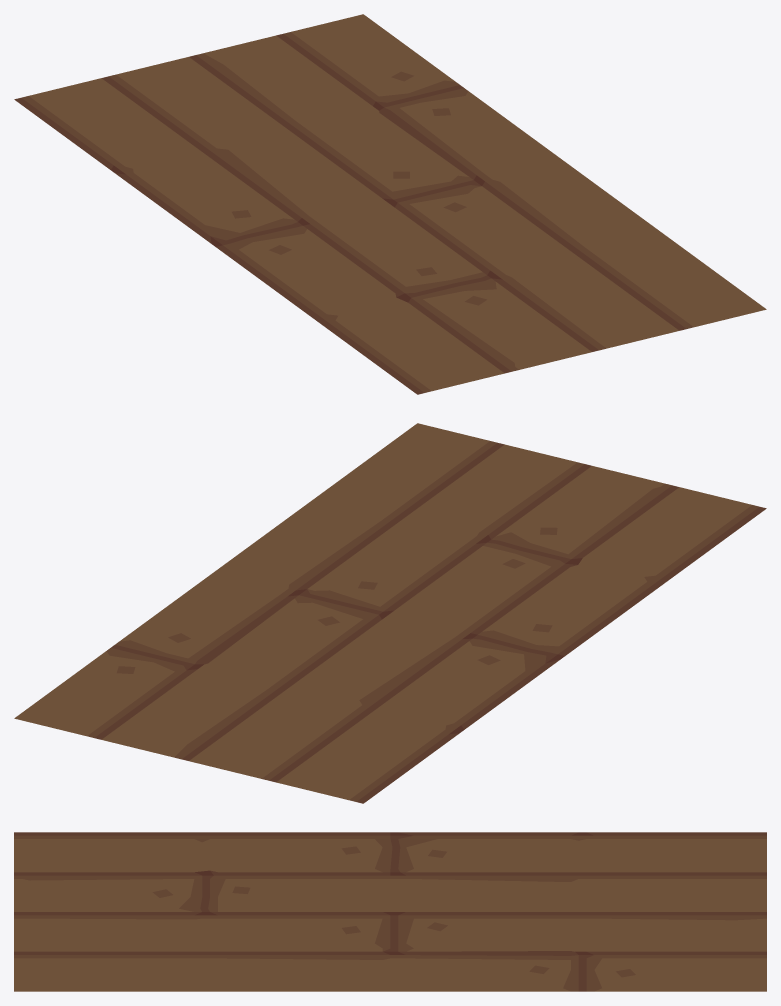
The model's file is floor1.fbx.
3 renders of one model, top to bottom at view 1: azimuth 30°, elevation 25°; view 2: azimuth 150°, elevation 25°; view 3: azimuth 270°, elevation 25°, orthographic. The views are drawn at different scales.
Visible parts, largest first — view 1: planks; view 2: planks; view 3: planks.
Part boxes in pixels (x1,y1,x2,y2): planks: (14, 14, 766, 394); planks: (14, 423, 766, 803); planks: (14, 832, 766, 991).
Bounding box in the file's own units: 300 × 1.56 × 600.
Materials: 1 (1 with a texture image).
